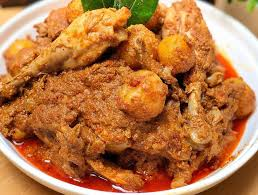rendang: (2, 5, 256, 192)
